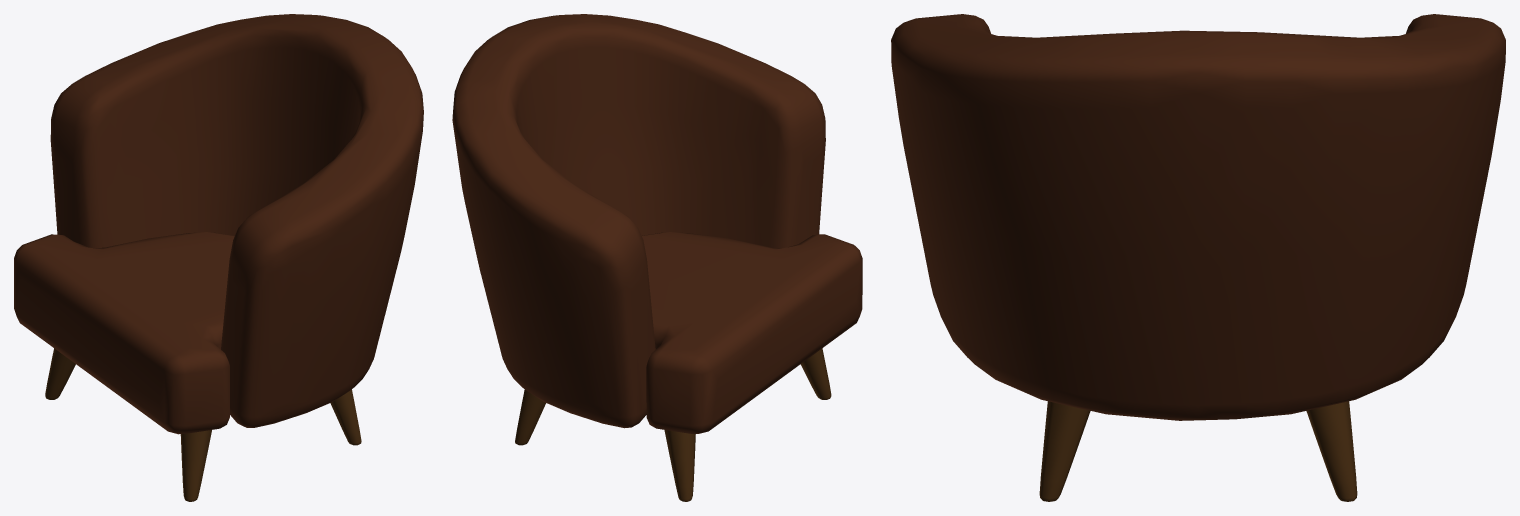
The model's file is armchair_07_leather_brown.fbx.
3 views of the same model, side by side, from view 1: azimuth 30°, elevation 25°; view 2: azimuth 150°, elevation 25°; view 3: azimuth 270°, elevation 25° (orthographic). The views are drawn at different scales.
Visible parts, largest first — view 1: armchair_07_leather_brown; view 2: armchair_07_leather_brown; view 3: armchair_07_leather_brown.
Boxes of the visible parts, x1,y1,x2,y2 form: armchair_07_leather_brown: (14,14,423,501); armchair_07_leather_brown: (452,14,862,501); armchair_07_leather_brown: (891,14,1505,501).
Bounding box in the file's own units: 102 × 114 × 128.
1 material, 1 textured.
